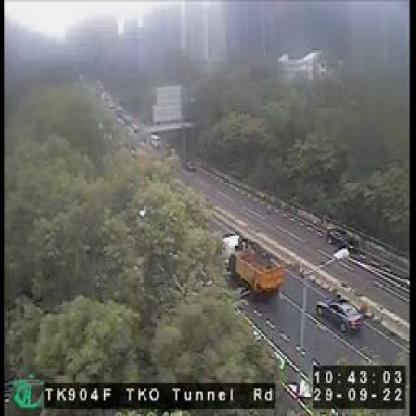Car: (315, 291, 365, 335), (324, 226, 362, 257)
Truck: (217, 231, 285, 298)
